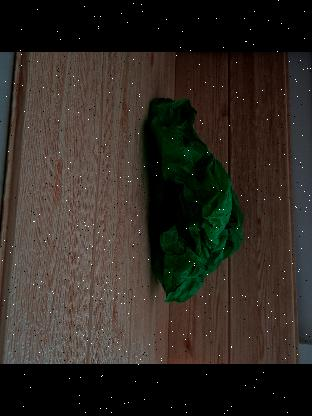Others: (151, 95, 243, 306)
